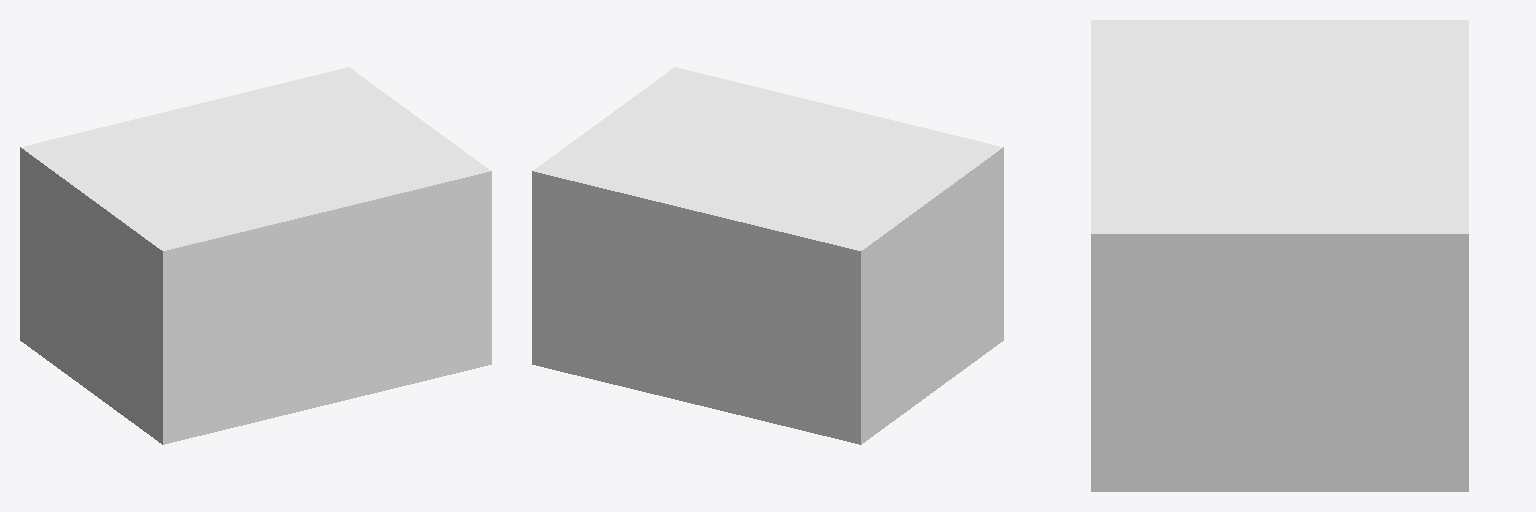
robot.urdf — urdf_robot:
<?xml version="1.0" ?>
<robot name="urdf_robot">
  <link name="base_link">
    <inertial>
      <origin rpy="0 0 0" xyz="0 0 0"/>
       <mass value="100"/>
       <inertia ixx="1" ixy="0" ixz="0" iyy="1" iyz="0" izz="1"/>
    </inertial>
    <visual>
      <origin rpy="0 0 0" xyz="0 0 0"/>
       <geometry>
        <box size=".8 .6 .45" />
       </geometry>
      <material name="white">
        <color rgba="1 1 1 1"/>
      </material>
    </visual>
    <collision>
      <origin rpy="0 0 0" xyz="0 0 0"/>
       <geometry>
        <box size=".8 .6 .45" />
       </geometry>
    </collision>
  </link>
</robot>

--- What the picture shows (computed from the rendered views, not written in the file) ---
The picture shows the robot from 3 angles, left to right: view 1: azimuth 30°, elevation 25°; view 2: azimuth 150°, elevation 25°; view 3: azimuth 270°, elevation 25°; orthographic projection.
Robot: urdf_robot — 1 links, 0 joints (none); root link base_link; default pose: every joint at zero.
Visible links, largest first — view 1: base_link; view 2: base_link; view 3: base_link.
Boxes of the visible links, bbox=[...] form: base_link: bbox=[20, 67, 491, 444]; base_link: bbox=[532, 67, 1003, 444]; base_link: bbox=[1091, 20, 1468, 491].
Size in the robot's own frame: 0.8 by 0.6 by 0.45 metres.
Geometry: primitives only (box / cylinder / sphere), no mesh files.